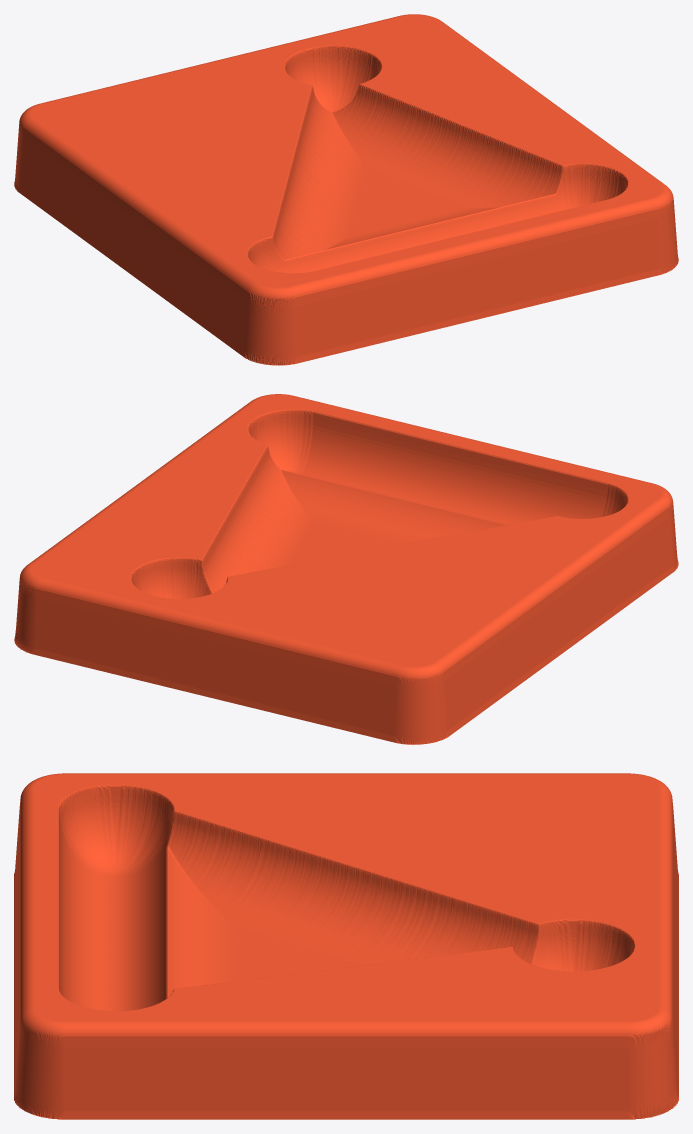
The model's file is mold.glb.
3 renders of one model, top to bottom at view 1: azimuth 30°, elevation 25°; view 2: azimuth 150°, elevation 25°; view 3: azimuth 270°, elevation 25°, orthographic. The views are drawn at different scales.
Parts seen in each view (by area): view 1: geometry_0; view 2: geometry_0; view 3: geometry_0.
Part boxes in pixels (x1,y1,x2,y2): geometry_0: (14, 14, 678, 365); geometry_0: (14, 394, 678, 744); geometry_0: (14, 773, 678, 1119).
Bounding box in the file's own units: 0.1106 × 0.0175 × 0.1178.
